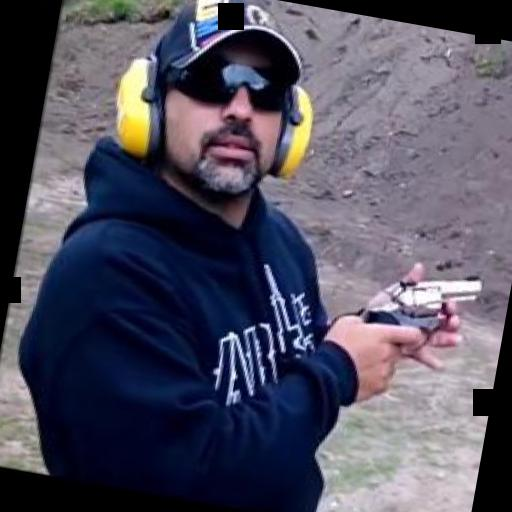Handgun: (344, 252, 486, 389)
